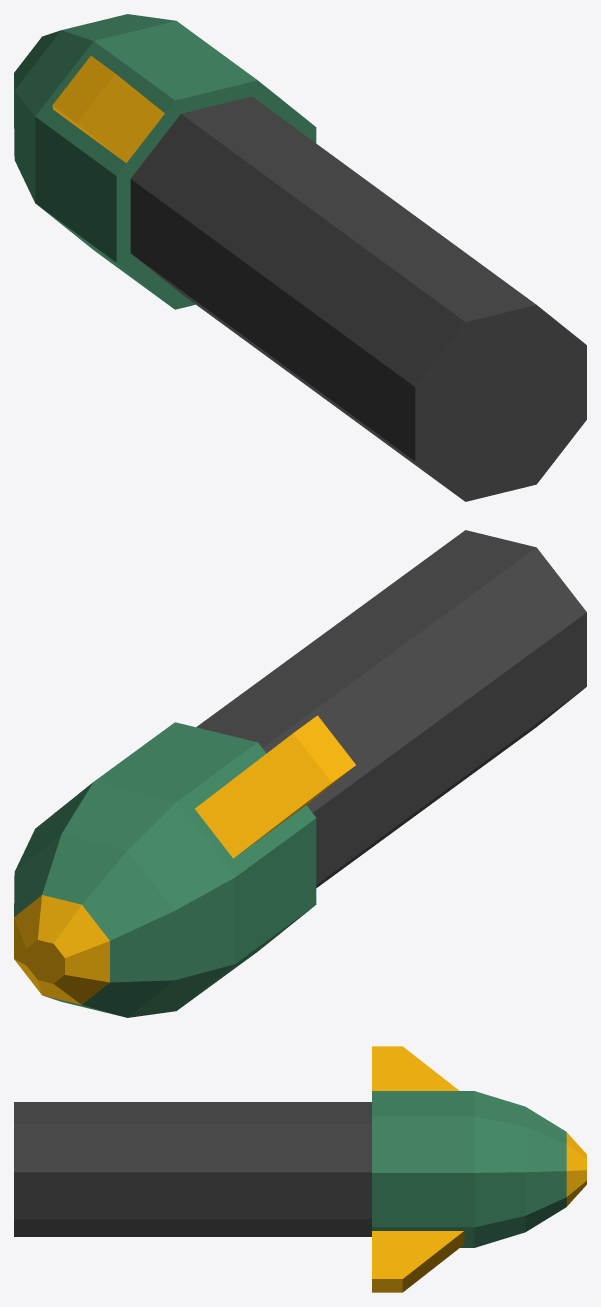
File: ammo_rocketModern.obj
3 views of the same model, one above another, from view 1: azimuth 30°, elevation 25°; view 2: azimuth 150°, elevation 25°; view 3: azimuth 270°, elevation 25° (orthographic). The views are drawn at different scales.
Visible parts, largest first — view 1: ammo_rocketModern; view 2: ammo_rocketModern; view 3: ammo_rocketModern.
Part boxes in pixels (x1,y1,x2,y2): ammo_rocketModern: [14, 14, 586, 501]; ammo_rocketModern: [14, 530, 586, 1017]; ammo_rocketModern: [14, 1046, 586, 1292].
Bounding box in the file's own units: 0.076 × 0.076 × 0.2144.
